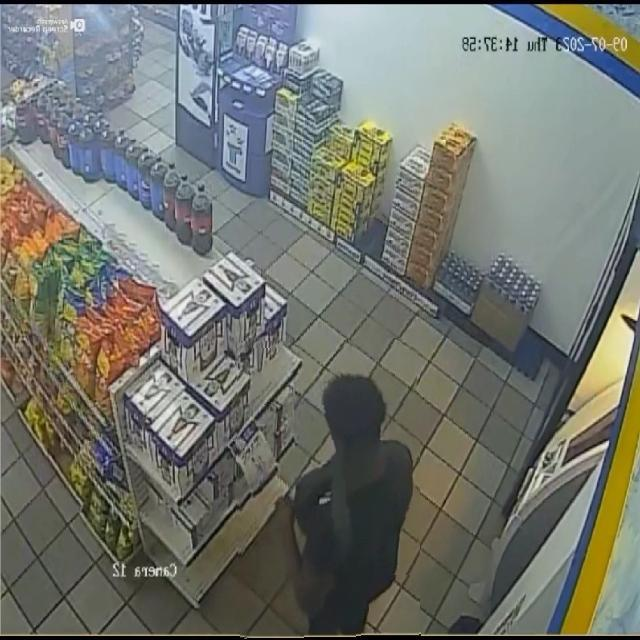normal: (236, 338, 420, 640)
